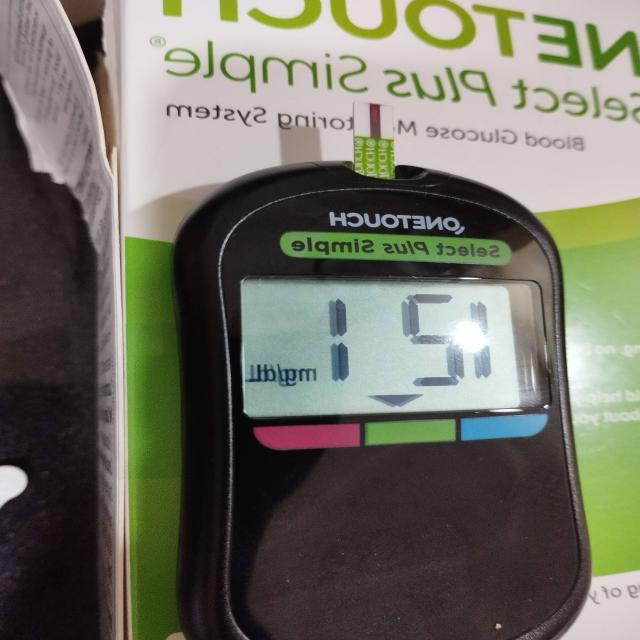gluco: (172, 162, 594, 640)
